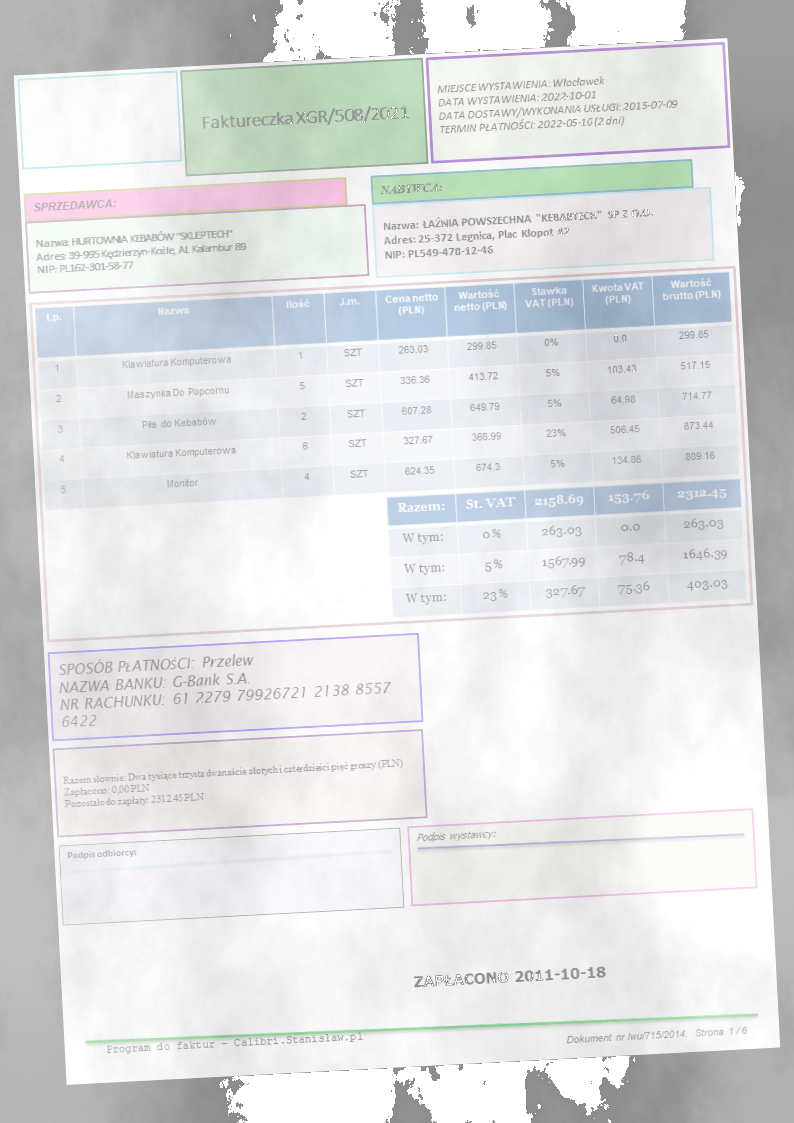Table: (32, 270, 739, 511), (384, 476, 745, 620)
TextBox: (54, 641, 398, 736), (57, 754, 410, 816), (431, 68, 682, 141), (379, 201, 660, 266), (29, 224, 253, 279), (102, 1027, 366, 1059), (195, 99, 410, 136), (406, 958, 611, 994), (561, 1019, 752, 1049), (412, 823, 498, 850), (27, 194, 118, 217), (60, 843, 140, 866), (375, 177, 443, 198)
